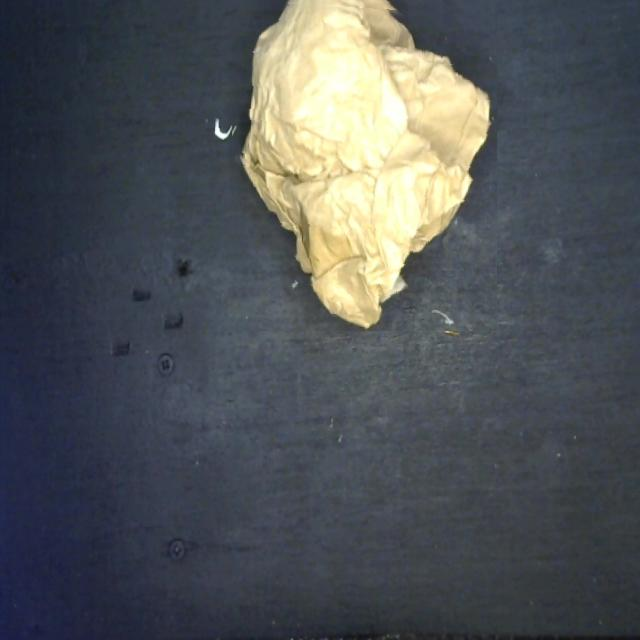biodegradable: (228, 0, 497, 331)
